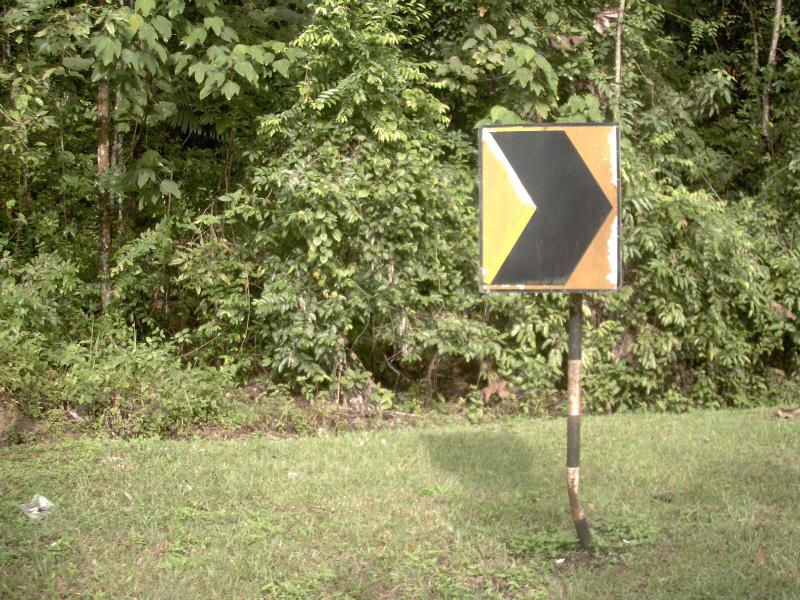traffic_sign: (460, 106, 639, 313)
